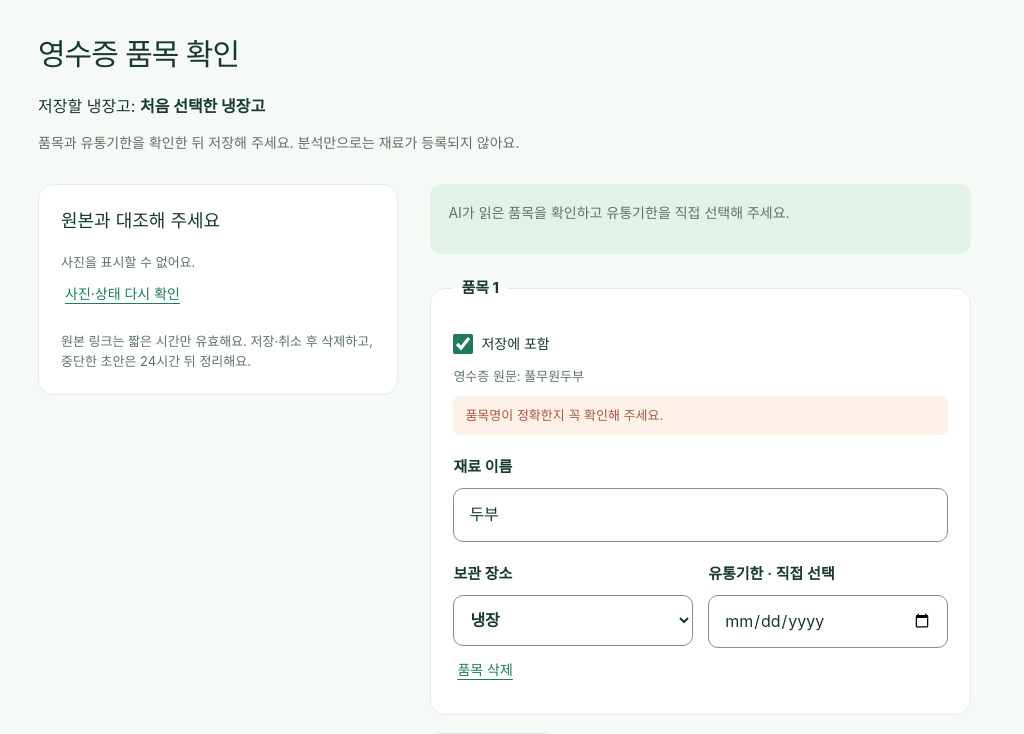
dates_start_empty_and_are_required
In the date field named "유통기한 1": [828, 621] box [708, 595, 948, 648], type "2026-11-05"
(page scrolled)
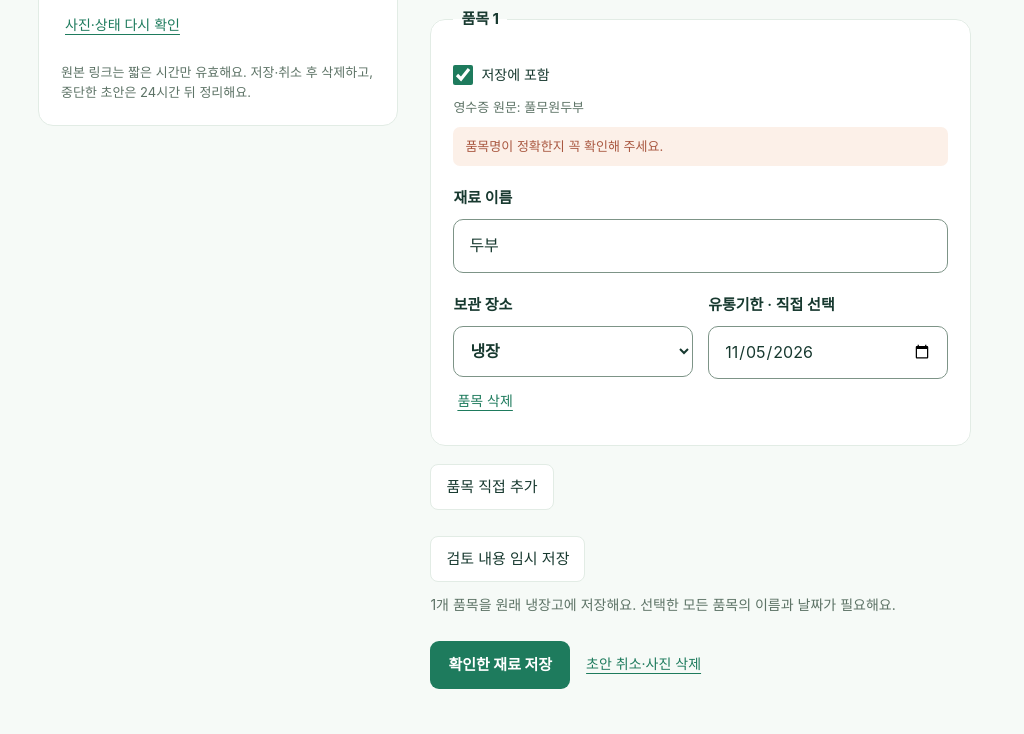
Expected: the button "확인한 재료 저장" is enabled, [430, 640, 570, 688]
